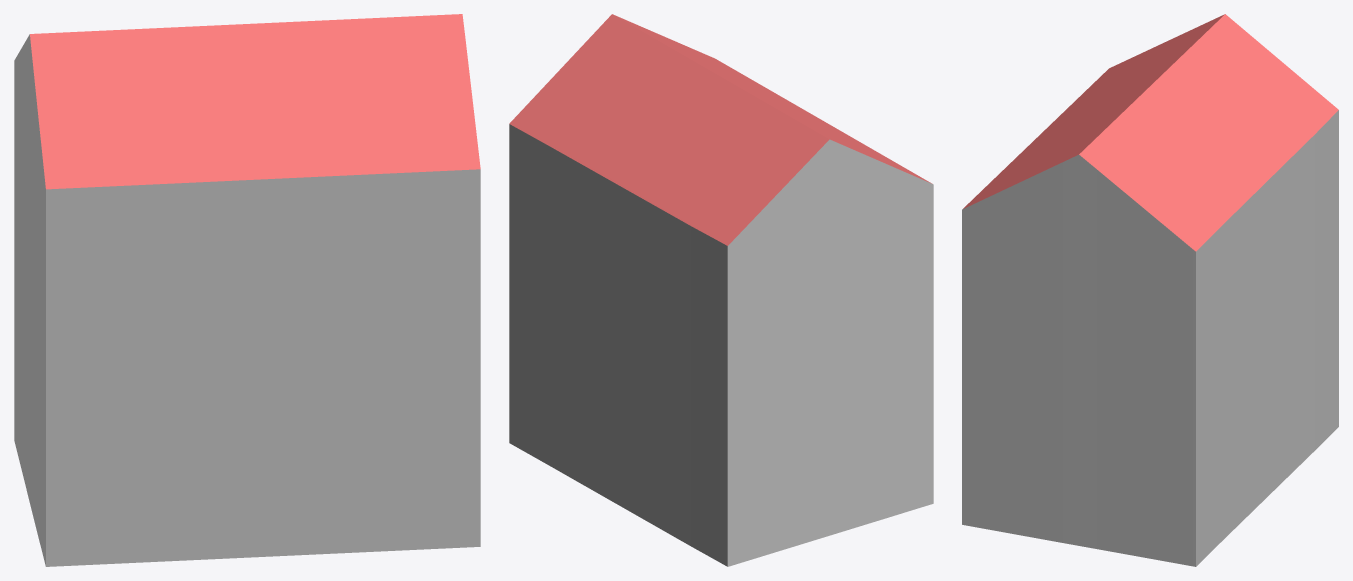
File: DEBY_LOD2_4907170.gltf
The picture shows the model from 3 angles, left to right: view 1: azimuth 30°, elevation 25°; view 2: azimuth 150°, elevation 25°; view 3: azimuth 270°, elevation 25°; orthographic projection. The views are drawn at different scales.
Visible parts, largest first — view 1: Z_UP; view 2: Z_UP; view 3: Z_UP.
Part boxes in pixels (x1,y1,x2,y2): Z_UP: (14,14,480,566); Z_UP: (509,14,933,566); Z_UP: (962,14,1338,566).
Size of the model in its own units: 22.17 by 22.06 by 19.25.
